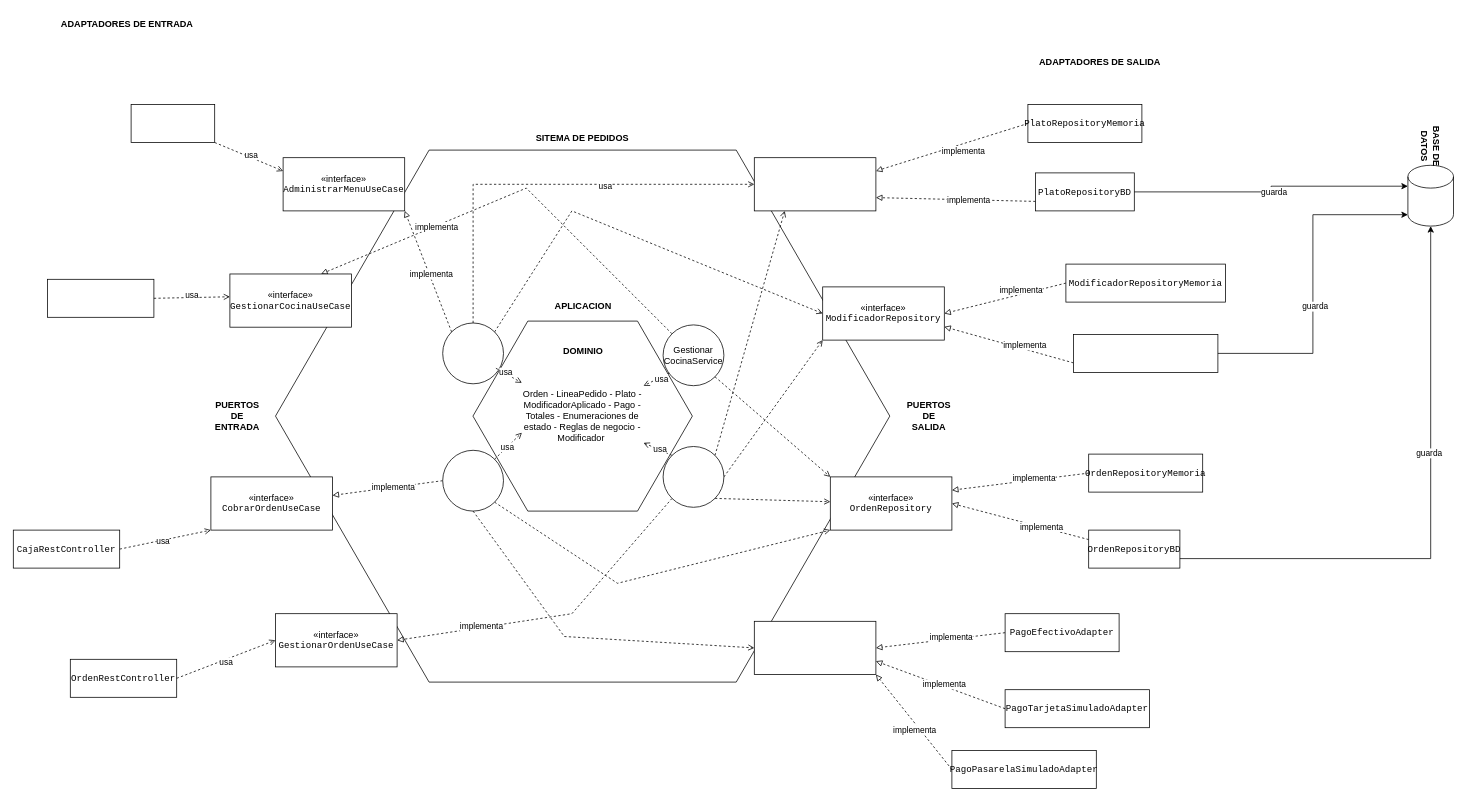
The diagram is 1467 pixels wide and 802 high, and some of its shapes have lost their labels. Here are the shapes that lost their labels. From the top down, the centre of each, then its label:
At point (172, 123): "MenuRestController".
At point (815, 184): "«interface» PlatoRepository".
At point (100, 298): "CocinaRestController".
At point (473, 353): "Administrar MenuService".
At point (1145, 353): "ModificadorRepositoryBD".
At point (473, 480): "Cobrar OrdenService".
At point (693, 476): "Gestionar OrdenService".
At point (815, 647): "«interface» ProcesadorPago".
